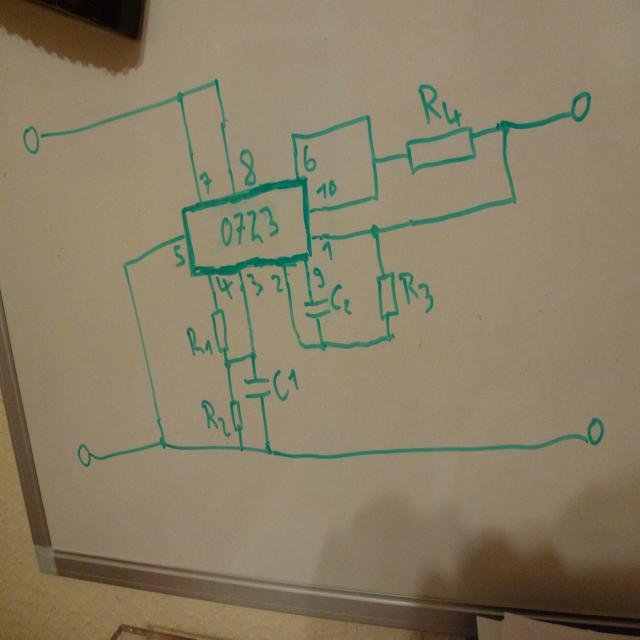capacitor: (242, 372, 272, 401), (303, 294, 330, 322)
junction: (494, 115, 513, 136), (368, 222, 382, 240), (506, 188, 519, 207), (156, 433, 169, 451), (292, 335, 305, 352), (383, 328, 396, 344), (220, 356, 234, 370), (261, 441, 274, 456), (315, 337, 328, 352), (173, 88, 185, 104), (246, 347, 258, 361), (210, 74, 221, 88), (363, 110, 373, 124), (286, 130, 298, 141), (370, 191, 381, 203), (368, 152, 378, 164), (237, 442, 246, 453), (120, 258, 128, 269)
resistor: (402, 126, 478, 176), (374, 268, 398, 322), (210, 304, 230, 354), (228, 397, 245, 433)
terminal: (568, 87, 595, 126), (581, 413, 608, 450), (21, 123, 43, 157), (74, 441, 94, 470)
text: (219, 204, 281, 248), (417, 78, 465, 126), (396, 268, 434, 315), (200, 397, 230, 439), (272, 366, 302, 404), (182, 323, 212, 358), (330, 279, 356, 316), (238, 146, 258, 186), (301, 142, 320, 173), (316, 176, 337, 202), (215, 275, 235, 300), (245, 272, 265, 297), (172, 243, 186, 270), (198, 169, 213, 194), (312, 265, 327, 289), (267, 272, 284, 293), (319, 240, 334, 261)
